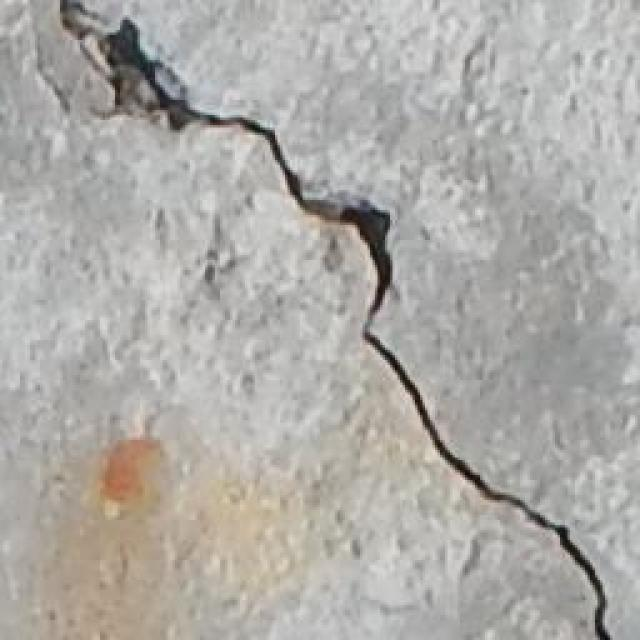concrete-crack: (47, 2, 620, 636)
